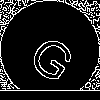G: (25, 25, 84, 86)
